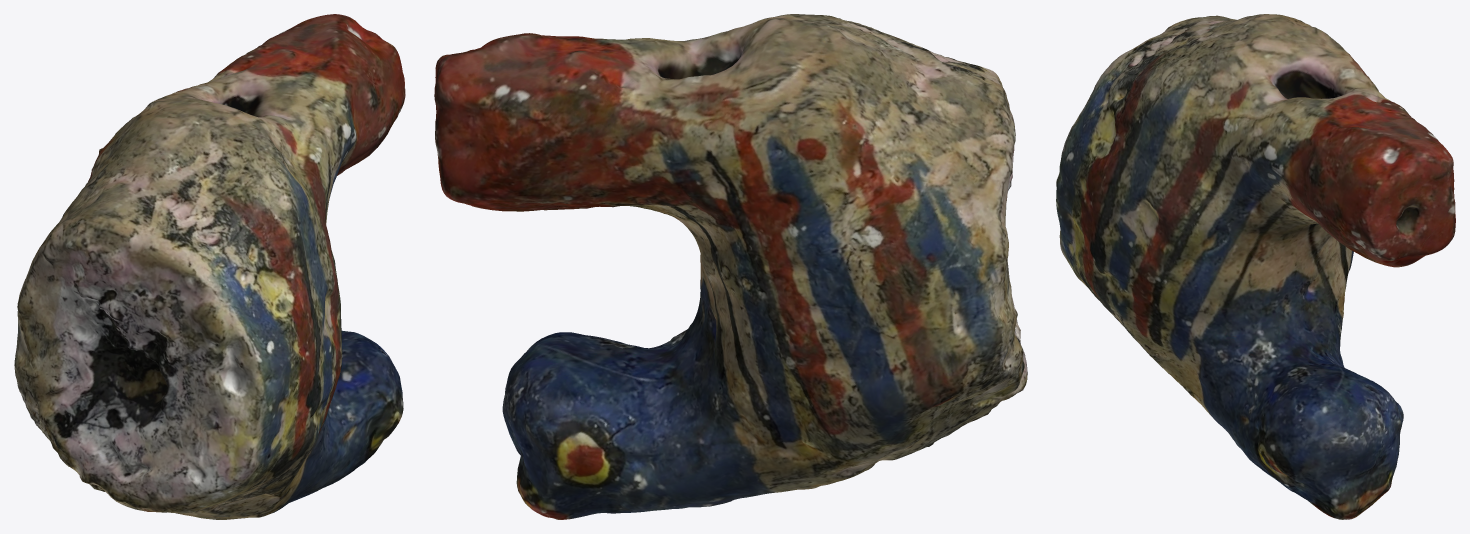
3 views of the same model, side by side, from view 1: azimuth 30°, elevation 25°; view 2: azimuth 150°, elevation 25°; view 3: azimuth 270°, elevation 25° (orthographic). The views are drawn at different scales.
Size of the model in its own units: 0.5057 by 0.4777 by 0.4251.
Materials: 1 (1 with a texture image).
